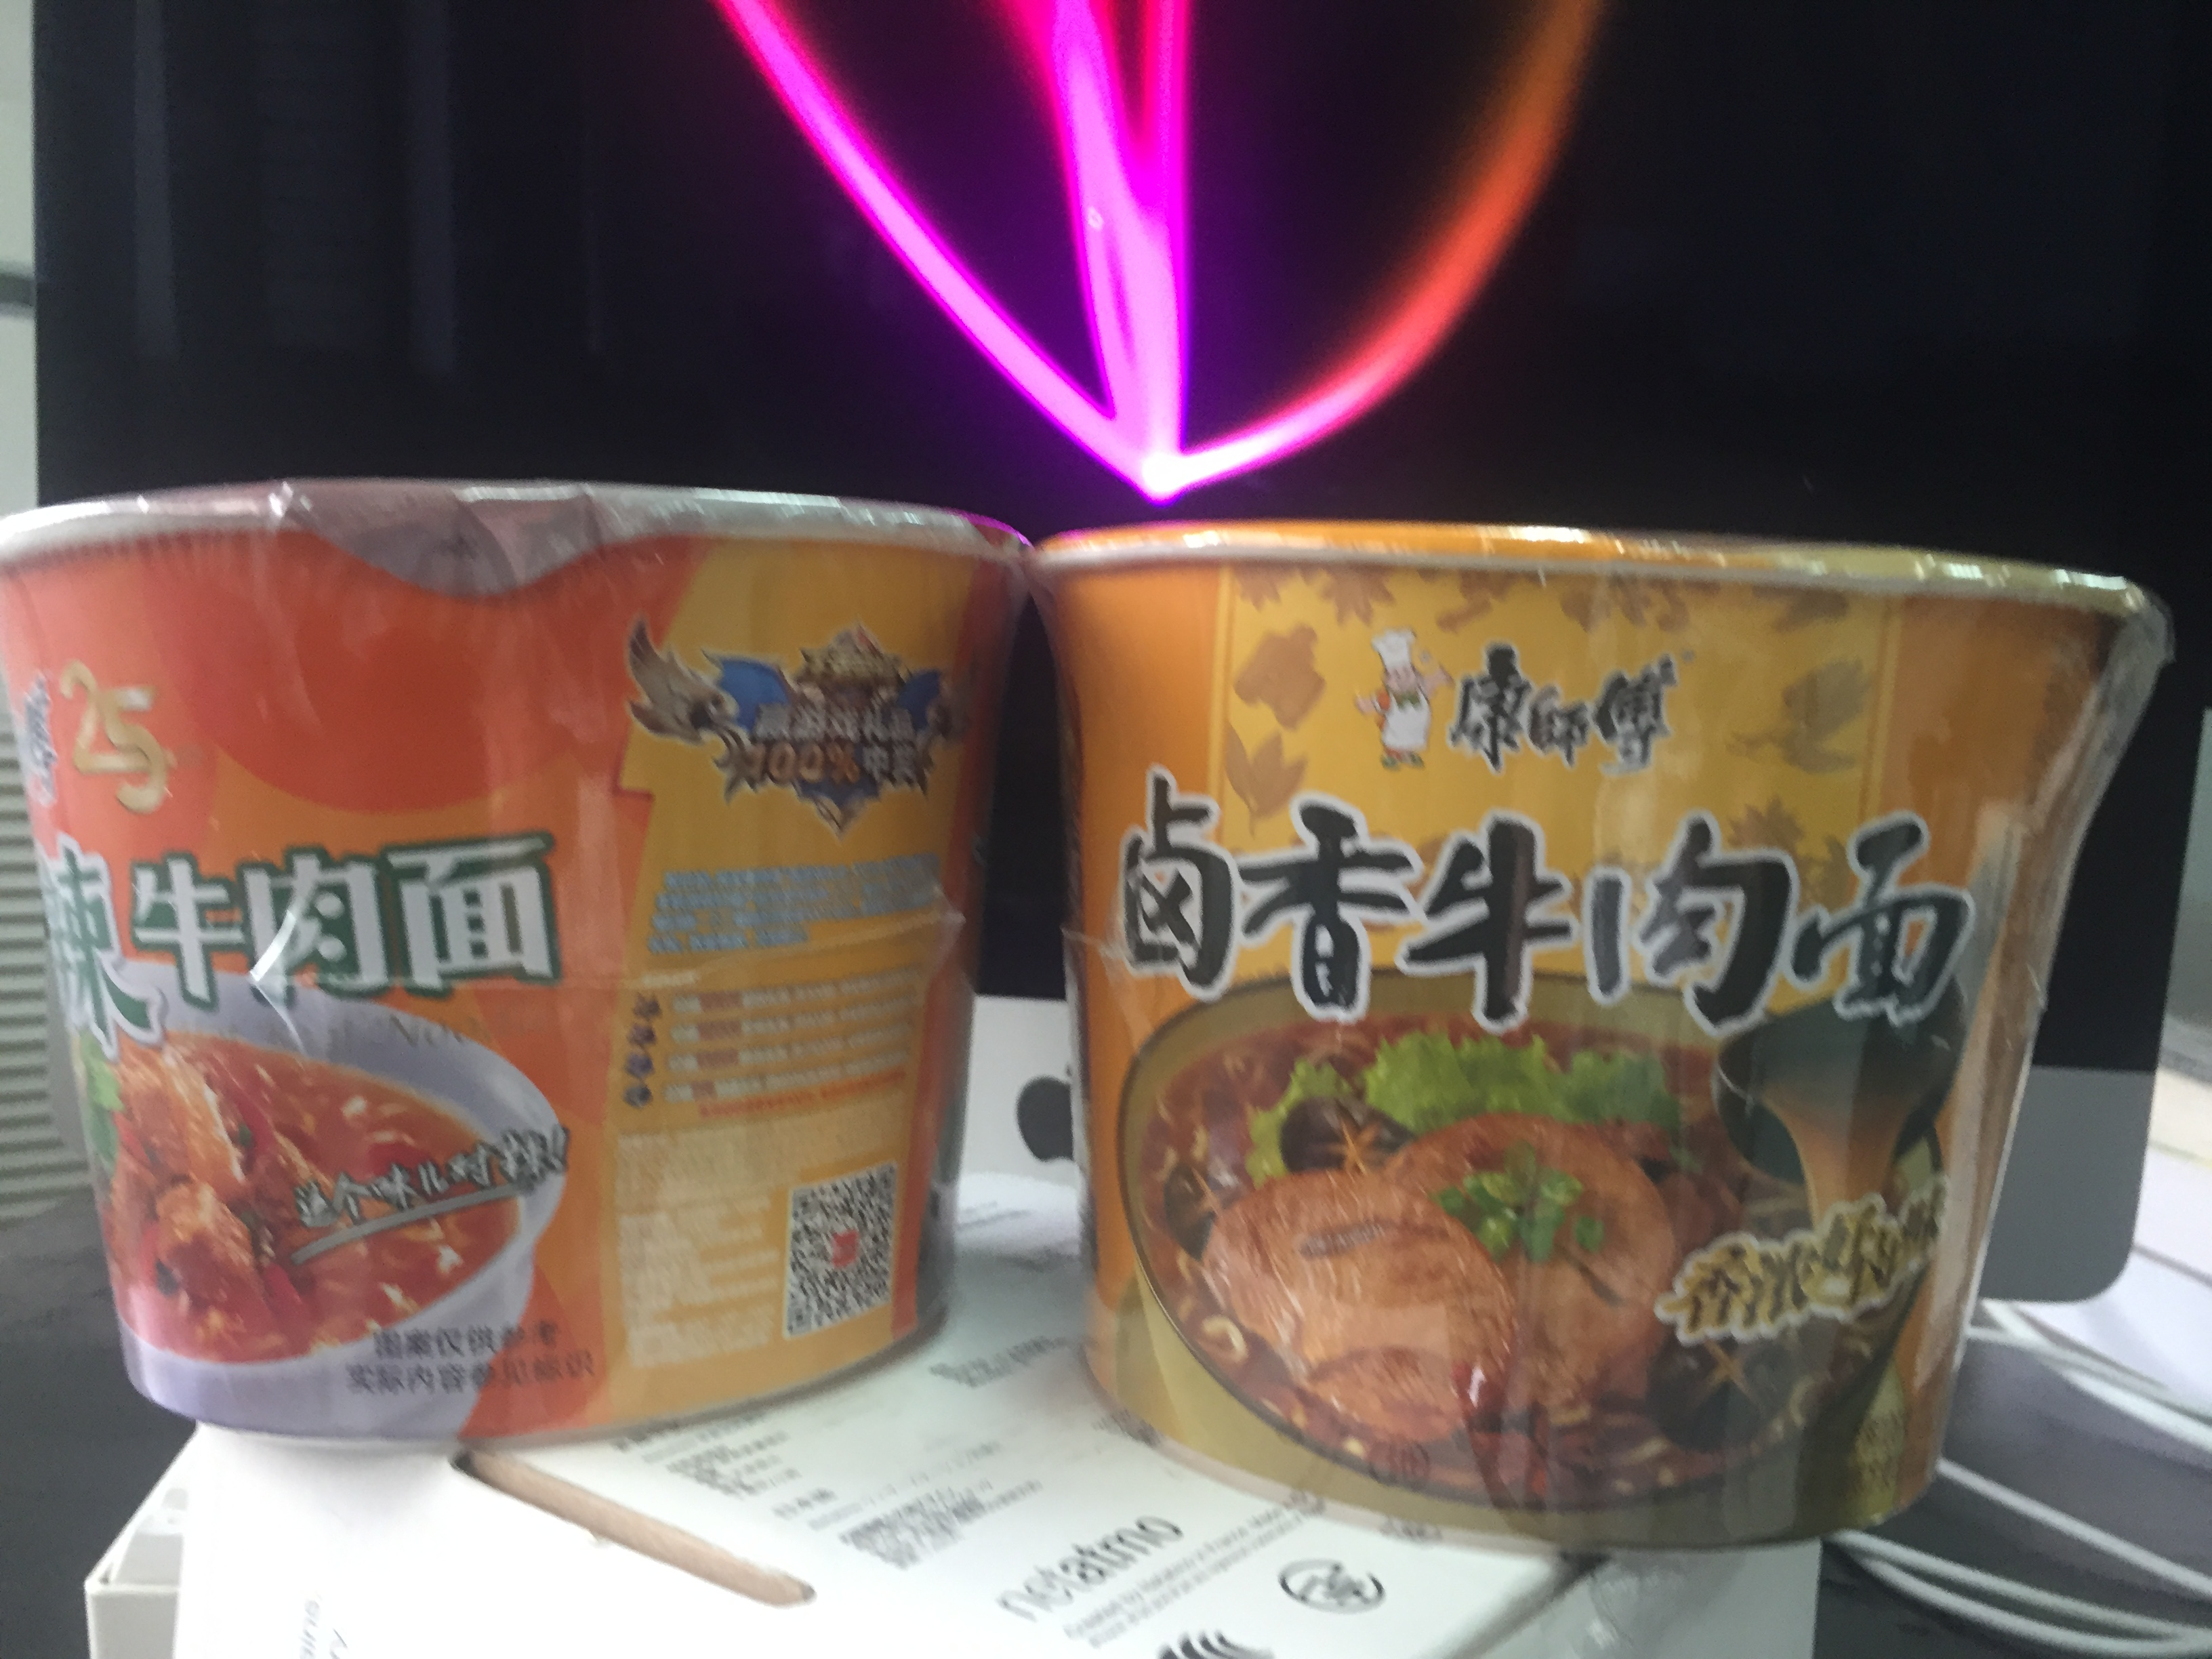luxiang: (1028, 519, 2172, 1558)
xiangla: (0, 477, 1028, 1452)
